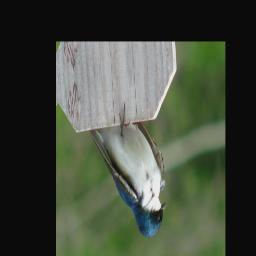Swallow: (87, 92, 170, 253)
